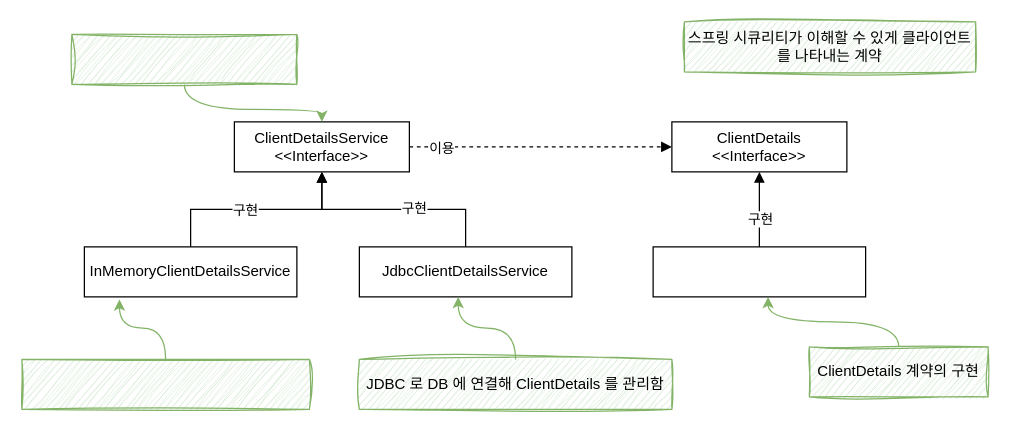
This 1010x431 diagram has some shape labels left out. The shapes that lost their labels are listed below. From the top down, each one's centre as x and y in pixels, then its label:
At (x=184, y=58): "클라이언트의 세부 정보를 검색하는 구성 요소를 나타내는 계약".
At (x=759, y=271): "BaseClientDetails".
At (x=165, y=383): "메모리 안에서 클라이언트 세부 정보를 관리함".
